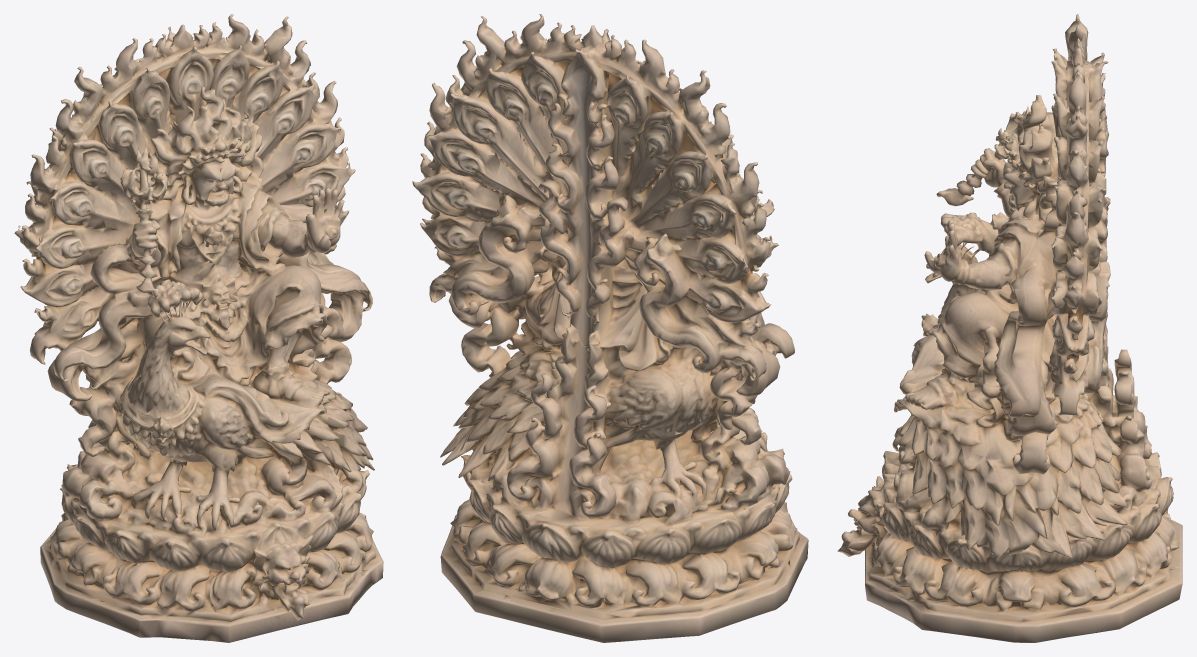
3 renders of one model, left to right at view 1: azimuth 30°, elevation 25°; view 2: azimuth 150°, elevation 25°; view 3: azimuth 270°, elevation 25°, orthographic. The views are drawn at different scales.
Visible parts, largest first — view 1: owner-collection20-02; view 2: owner-collection20-02; view 3: owner-collection20-02.
Boxes of the visible parts, left/top/right/bottom form: owner-collection20-02: left=14, top=14, right=383, bottom=642; owner-collection20-02: left=412, top=14, right=808, bottom=642; owner-collection20-02: left=837, top=14, right=1182, bottom=642.
Size of the model in its own units: 0.6495 by 0.9997 by 0.5977.
1 material, 1 textured.
